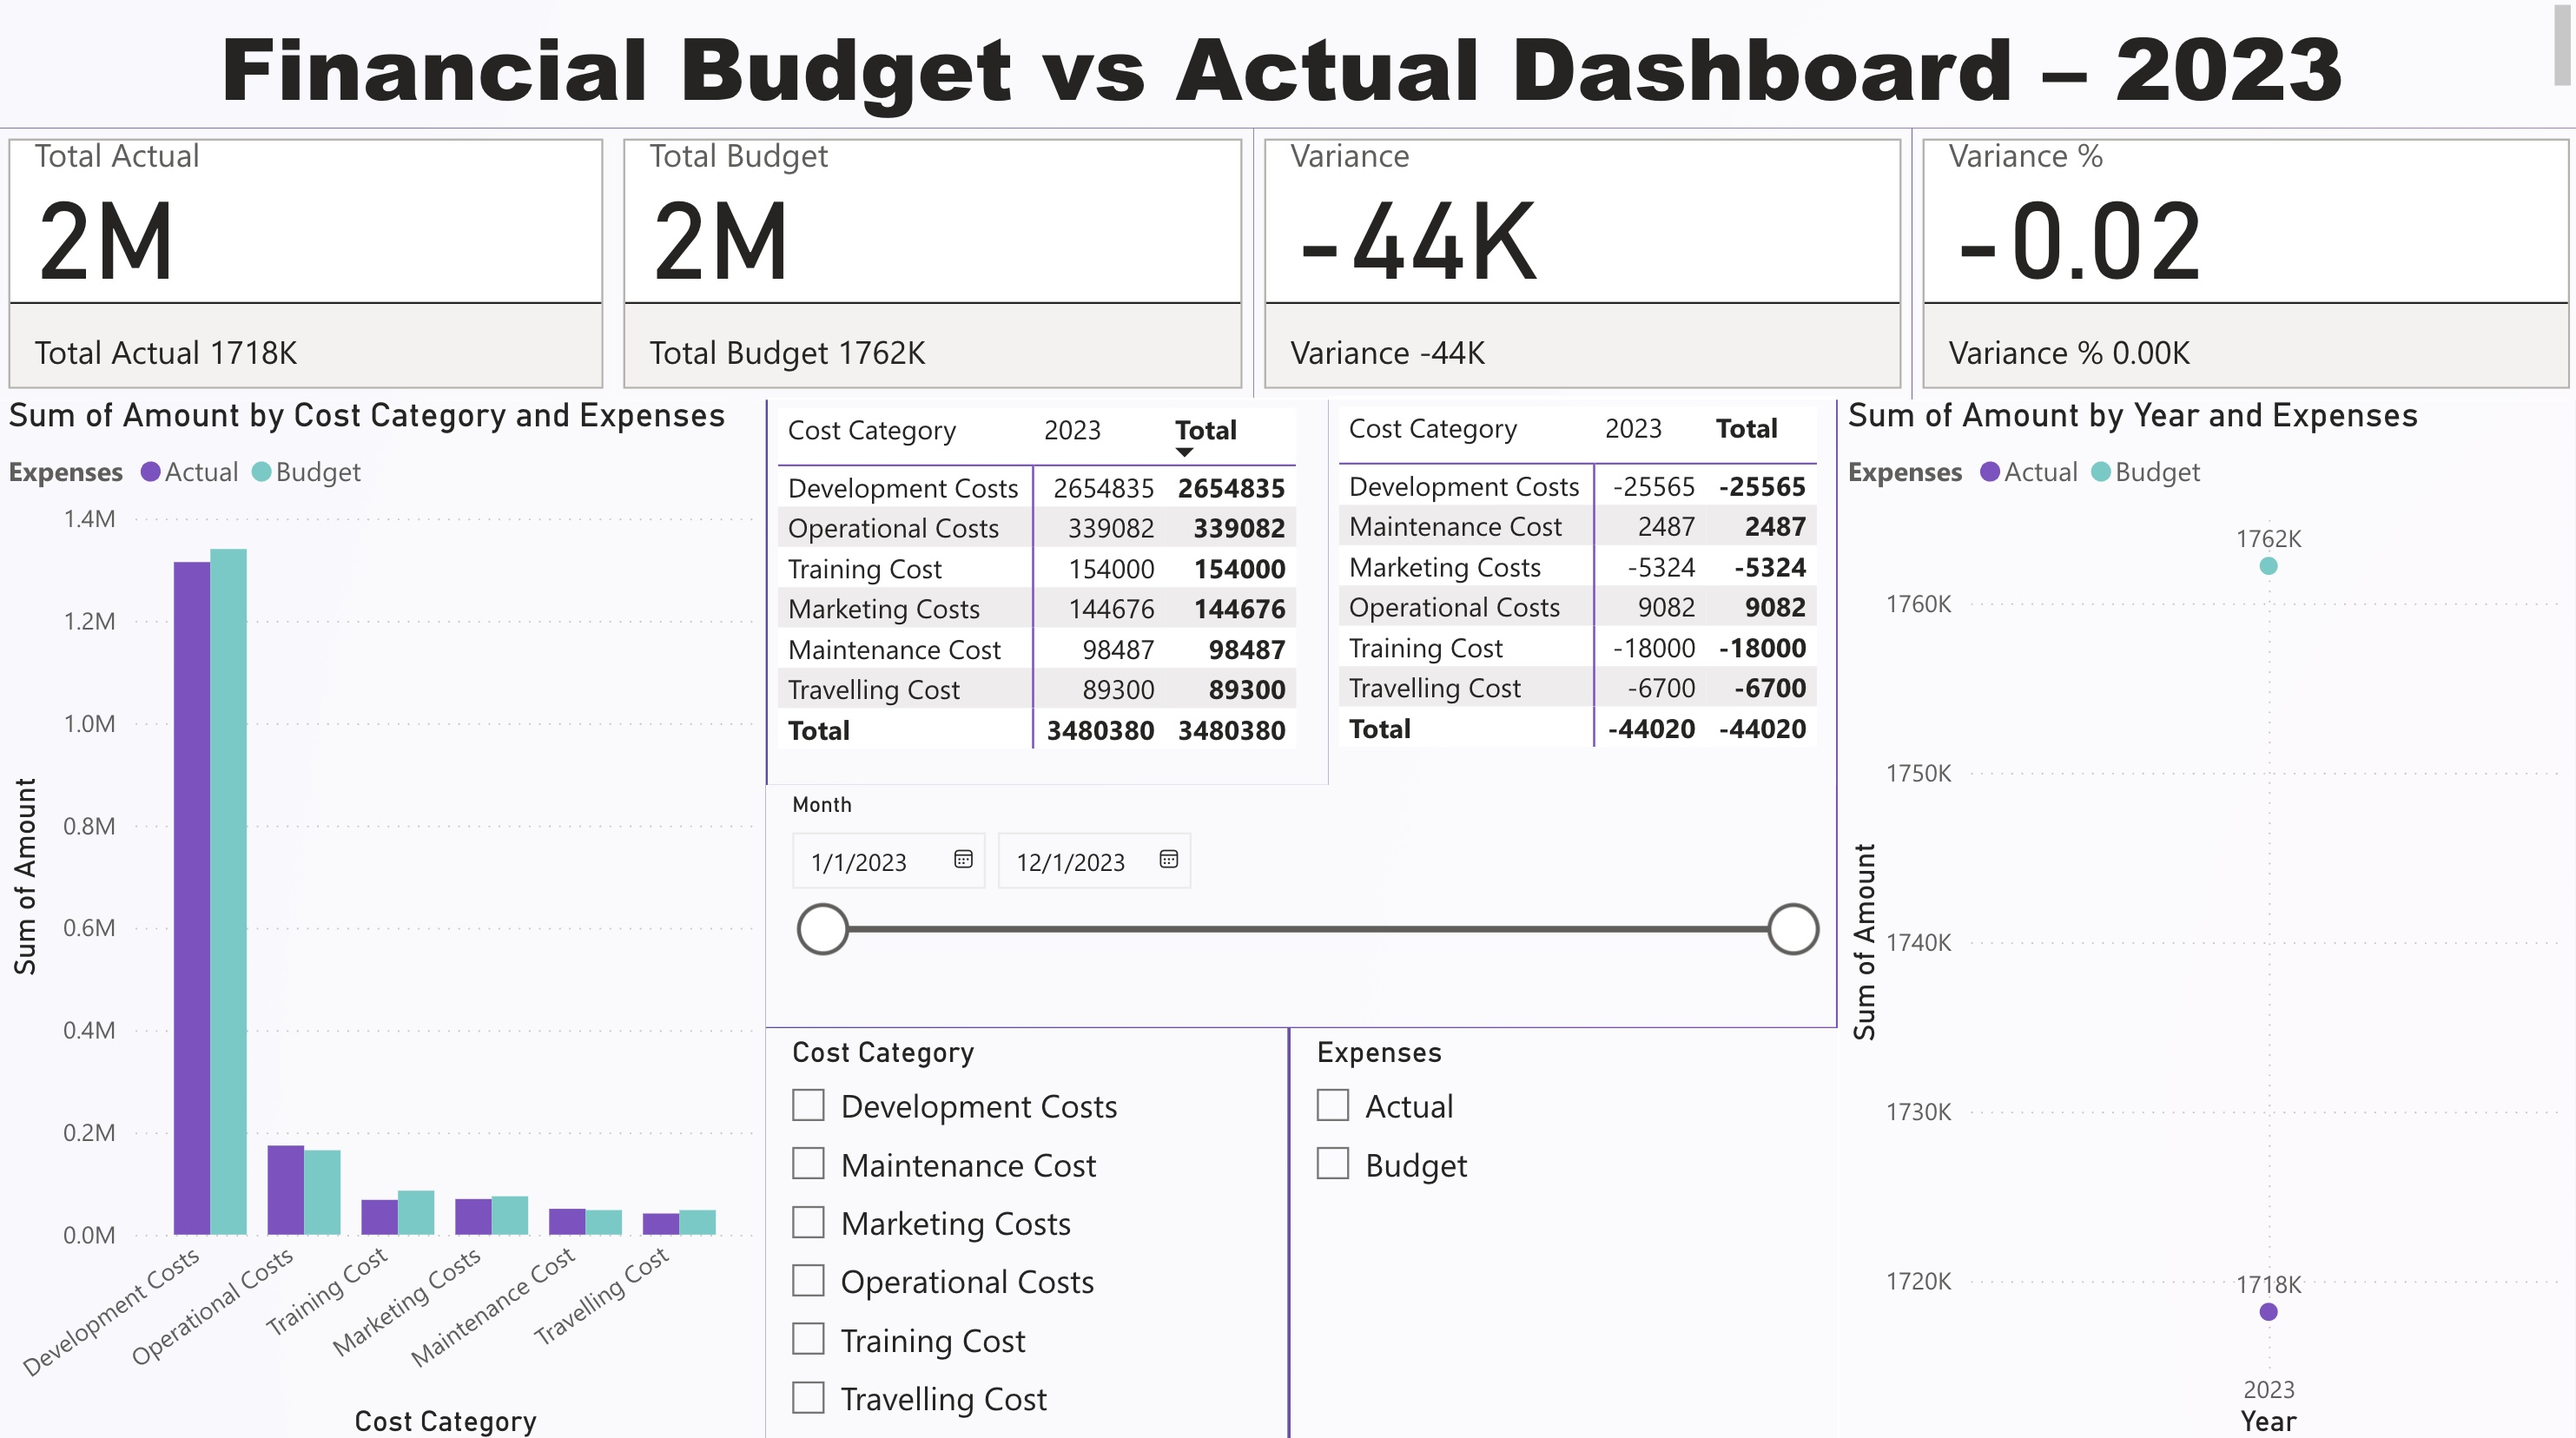

This screenshot's page, from the dashboard's own definition file:
{"tool":"powerbi","page":{"name":"Page 1","canvas":[1280,720],"ordinal":0},"visuals":[{"type":"textbox","box":[0,0,1280.5,65.9],"z":0},{"type":"cardVisual","fields":{"Data":["Finance Record.Total Actual"]},"box":[0,66.3,305.2,134.3],"z":1000},{"type":"cardVisual","fields":{"Data":["Finance Record.Total Budget"]},"box":[305.2,66.3,317.4,134.3],"z":2000},{"type":"cardVisual","fields":{"Data":["Finance Record.Variance"]},"box":[622.6,66.3,326.1,134.3],"z":3000},{"type":"cardVisual","fields":{"Data":["Finance Record.Variance %"]},"box":[948.7,66.3,331.3,134.3],"z":4000},{"type":"clusteredColumnChart","fields":{"Category":["Finance Record.Cost Category"],"Series":["Finance Record.Expenses"],"Y":["Sum(Finance Record.Amount)"]},"box":[0,200.5,380.5,519.5],"z":5000},{"type":"lineChart","fields":{"Category":["Finance Record.Month.Variation.Date Hierarchy.Year","Finance Record.Month.Variation.Date Hierarchy.Quarter","Finance Record.Month.Variation.Date Hierarchy.Month","Finance Record.Month.Variation.Date Hierarchy.Day"],"Series":["Finance Record.Expenses"],"Y":["Sum(Finance Record.Amount)"]},"box":[911.7,200.5,365.9,519.5],"z":6000},{"type":"pivotTable","fields":{"Rows":["Finance Record.Cost Category"],"Values":["Sum(Finance Record.Amount)"],"Columns":["Finance Record.Month.Variation.Date Hierarchy.Year","Finance Record.Month.Variation.Date Hierarchy.Quarter","Finance Record.Month.Variation.Date Hierarchy.Month","Finance Record.Month.Variation.Date Hierarchy.Day"]},"box":[381.8,200.2,278.2,191.9],"z":7000},{"type":"pivotTable","fields":{"Values":["Finance Record.Variance"],"Rows":["Finance Record.Cost Category"],"Columns":["Finance Record.Month.Variation.Date Hierarchy.Year","Finance Record.Month.Variation.Date Hierarchy.Quarter","Finance Record.Month.Variation.Date Hierarchy.Month","Finance Record.Month.Variation.Date Hierarchy.Day"]},"box":[660,199.1,251.5,193],"z":8000},{"type":"slicer","fields":{"Values":["Finance Record.Month"]},"box":[380.8,392.1,530.7,120.1],"z":9000},{"type":"slicer","fields":{"Values":["Finance Record.Cost Category"]},"box":[380.8,512.2,258.7,207.3],"z":10000},{"type":"slicer","fields":{"Values":["Finance Record.Expenses"]},"box":[640.5,512.2,272,207.3],"z":11000}]}

Visuals, with their boxes in screenshot pixels (x1, y1, x2, y2), scaled from the page's 1280x720 canvas onto the 2576x1438 screenshot:
textbox: left=0, top=0, right=2575, bottom=132
cardVisual - Finance Record.Total Actual: left=0, top=132, right=614, bottom=400
cardVisual - Finance Record.Total Budget: left=614, top=132, right=1253, bottom=400
cardVisual - Finance Record.Variance: left=1253, top=132, right=1909, bottom=400
cardVisual - Finance Record.Variance %: left=1909, top=132, right=2575, bottom=400
clusteredColumnChart - Finance Record.Cost Category x Finance Record.Expenses: left=0, top=400, right=766, bottom=1437
lineChart - Finance Record.Month.Variation.Date Hierarchy.Year x Finance Record.Month.Variation.Date Hierarchy.Quarter: left=1835, top=400, right=2571, bottom=1437
pivotTable - Finance Record.Cost Category x Sum(Finance Record.Amount): left=769, top=399, right=1328, bottom=783
pivotTable - Finance Record.Variance x Finance Record.Cost Category: left=1328, top=398, right=1834, bottom=783
slicer - Finance Record.Month: left=766, top=783, right=1834, bottom=1023
slicer - Finance Record.Cost Category: left=766, top=1023, right=1287, bottom=1437
slicer - Finance Record.Expenses: left=1289, top=1023, right=1836, bottom=1437
